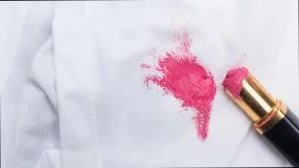lipstick: (142, 39, 224, 138)
